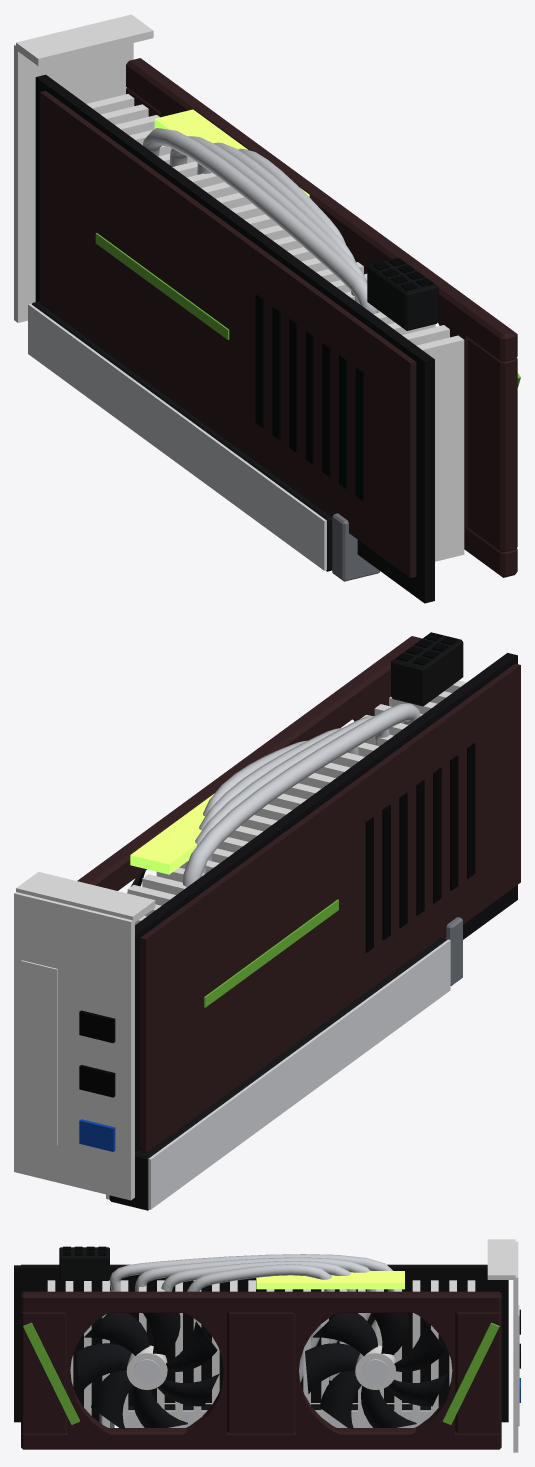
Rendered from hwm_gpu_rtx3070.glb.
3 views of the same model, one above another, from view 1: azimuth 30°, elevation 25°; view 2: azimuth 150°, elevation 25°; view 3: azimuth 270°, elevation 25° (orthographic). The views are drawn at different scales.
Visible parts, largest first — view 1: Card_0, Slot_0; view 2: Card_0, Slot_0; view 3: Card_0, Rotor_X_1, Rotor_X_0, Slot_0.
Boxes of the visible parts, x1=… form: Card_0: x1=14, y1=14, x2=520, y2=603; Slot_0: x1=28, y1=301, x2=380, y2=581; Card_0: x1=14, y1=632, x2=520, y2=1200; Slot_0: x1=106, y1=917, x2=462, y2=1210; Card_0: x1=14, y1=1239, x2=520, y2=1452; Rotor_X_1: x1=76, y1=1313, x2=219, y2=1429; Rotor_X_0: x1=305, y1=1313, x2=447, y2=1429; Slot_0: x1=99, y1=1404, x2=440, y2=1427.
Size of the model in its own units: 0.0376 by 0.0916 by 0.2152.
